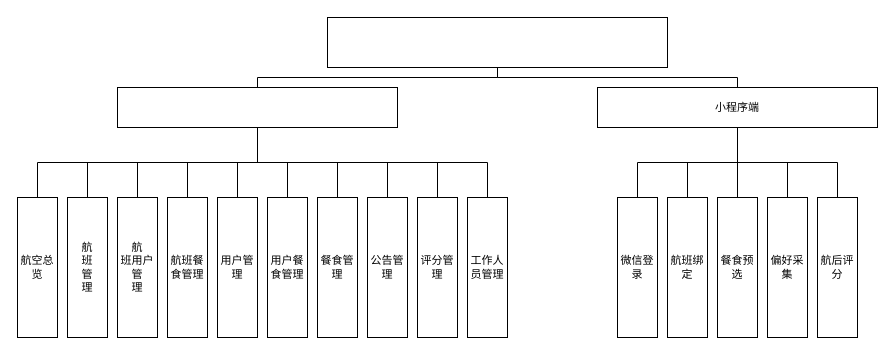
Image size: 895x355. Some labels were removed from this diagram. The shapes that lost their labels are listed below. From the top down, each one's centre as x and y in pixels, then its label:
the point at 497,42: 航空旅客智能美食推荐系统
the point at 257,107: 管理端
